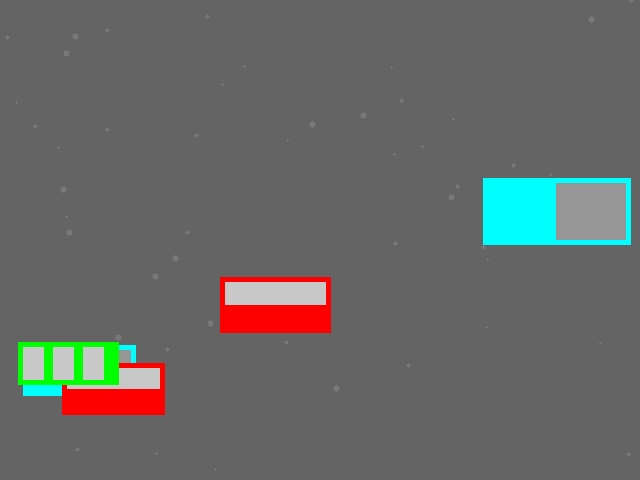bus: (18, 342, 118, 384)
car: (220, 277, 330, 332), (62, 363, 164, 414)
truck: (483, 178, 630, 244), (23, 345, 135, 395)
